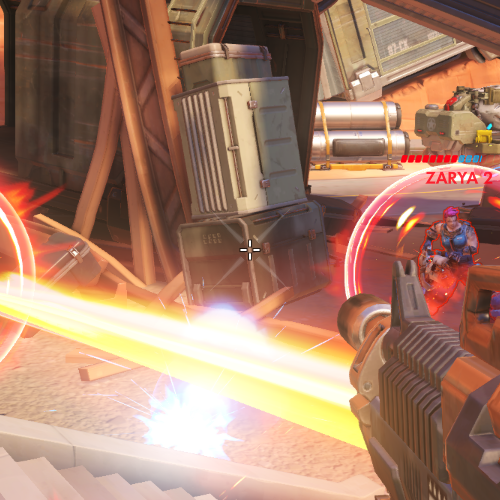hpbar: (400, 154, 500, 164)
